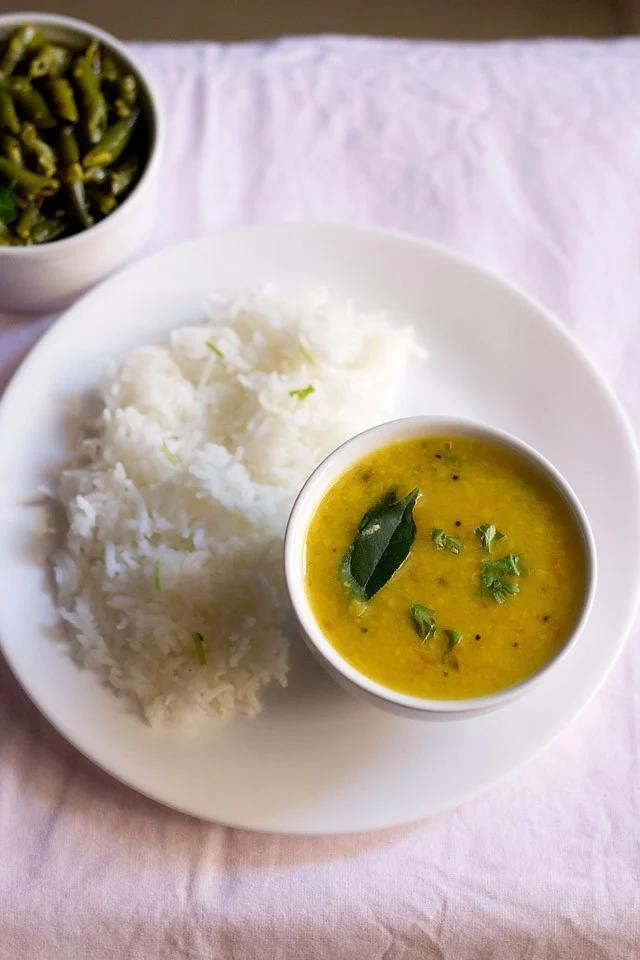dal: (306, 441, 589, 699)
rice: (39, 273, 433, 729)
